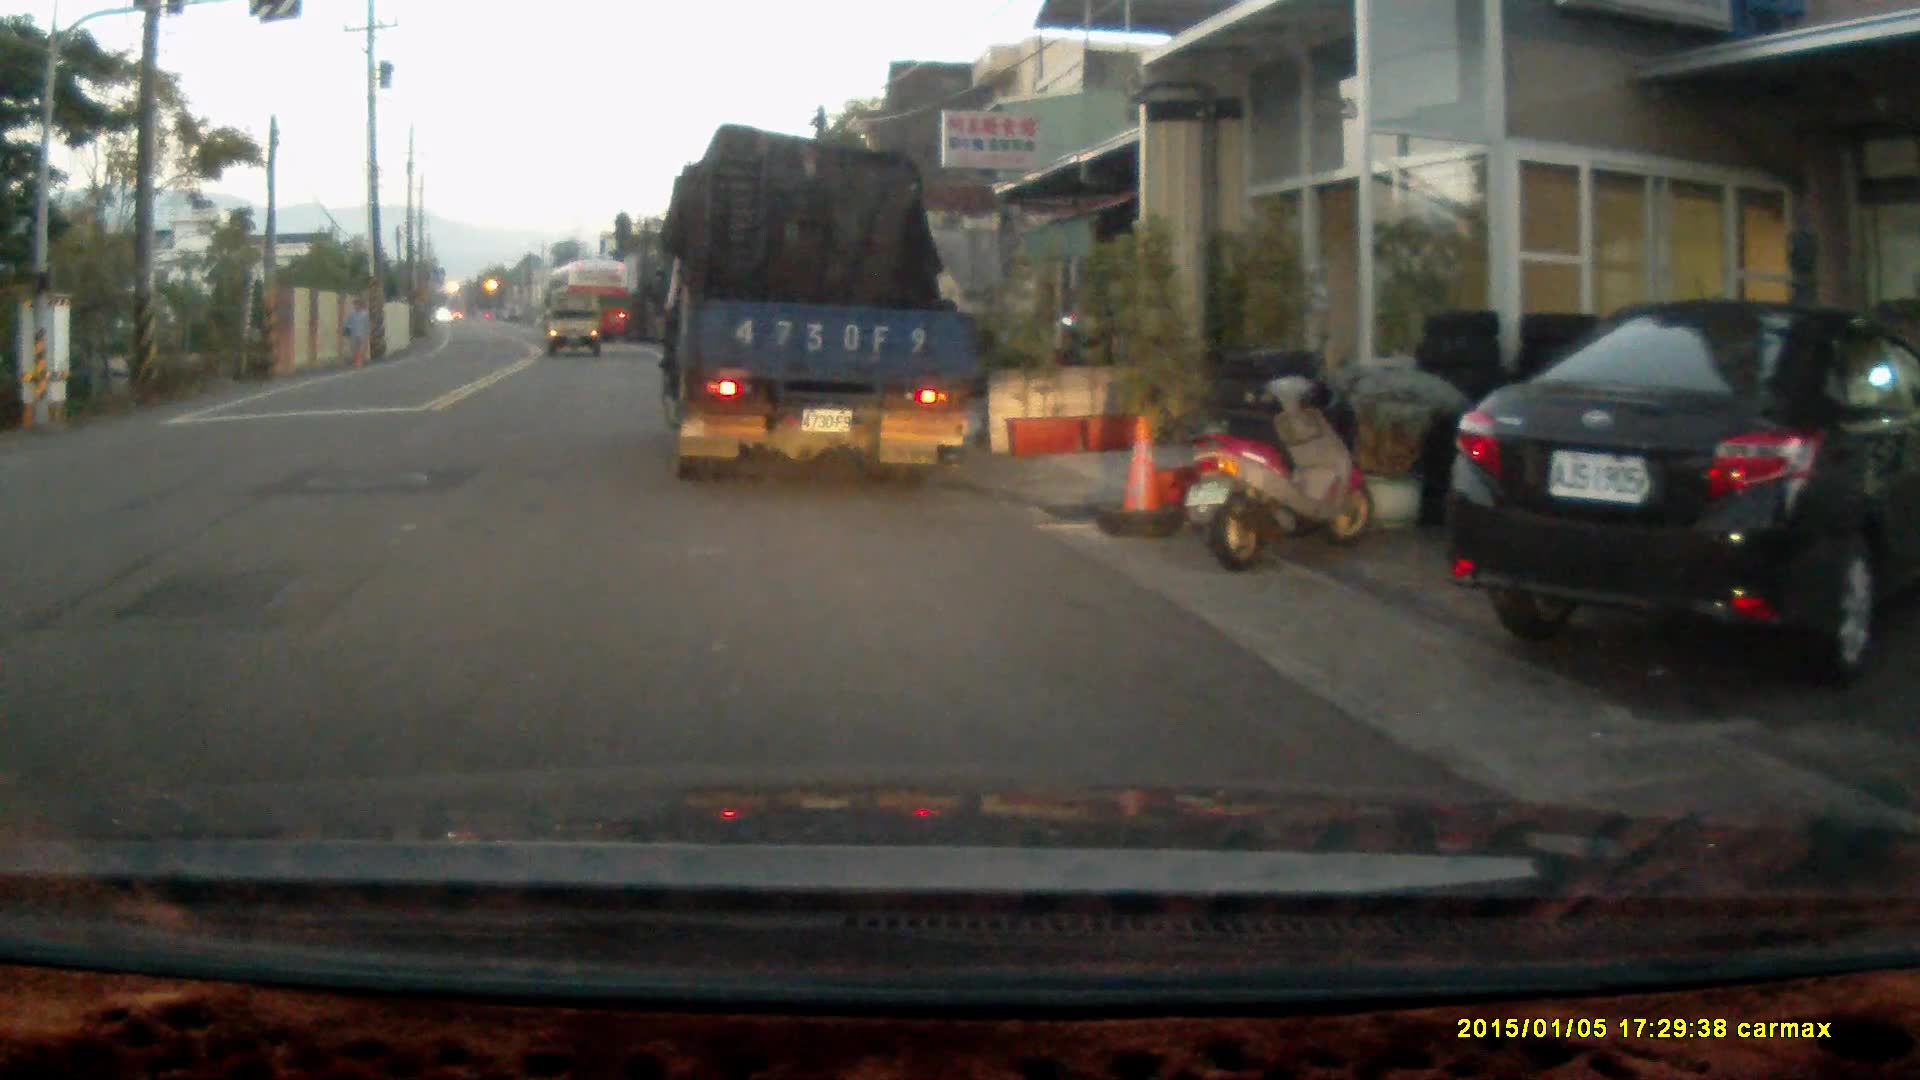pedestrian: (334, 295, 369, 367)
vehicle: (1452, 299, 1920, 690), (658, 130, 975, 493), (542, 260, 629, 338), (547, 285, 604, 359)
